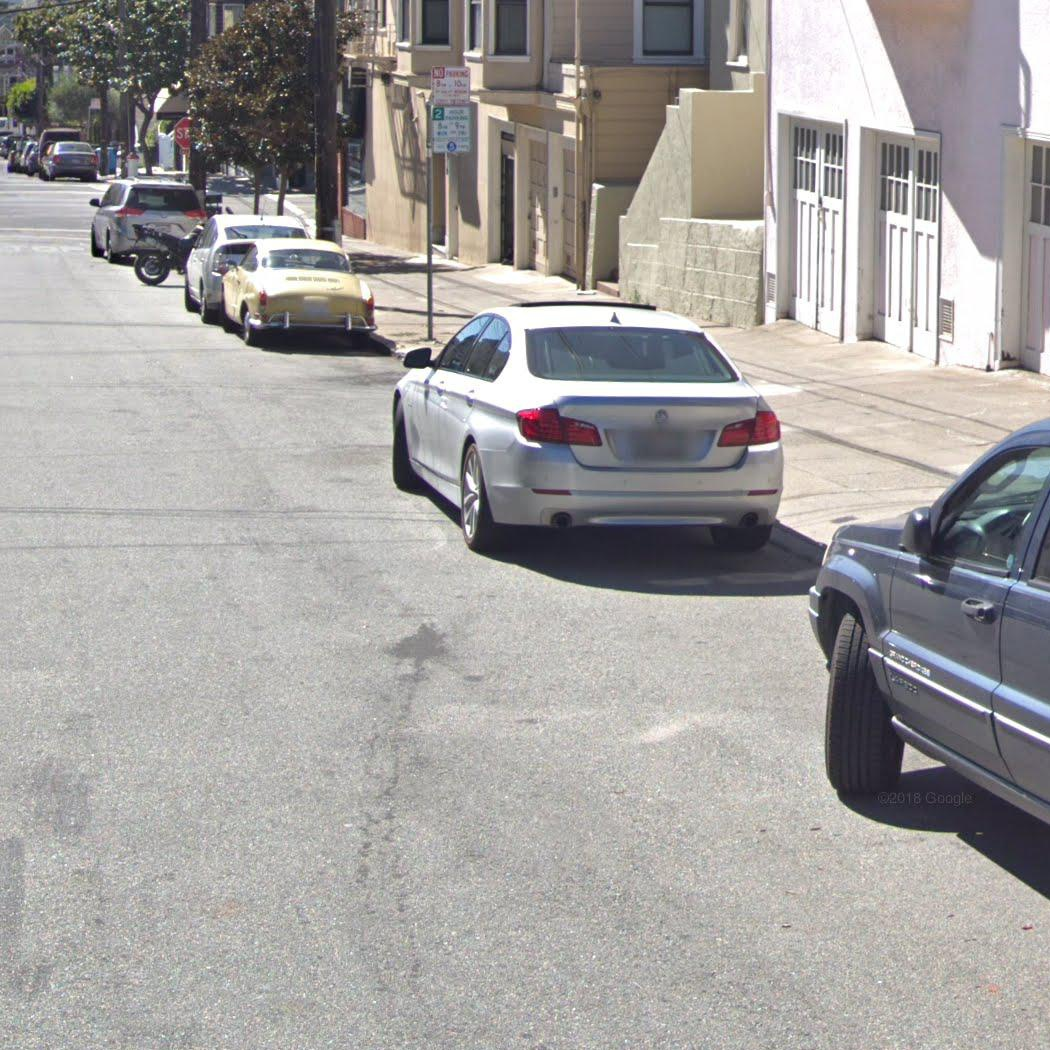2 Hour Parking: (430, 104, 474, 156)
No Parking: (427, 63, 472, 108)
